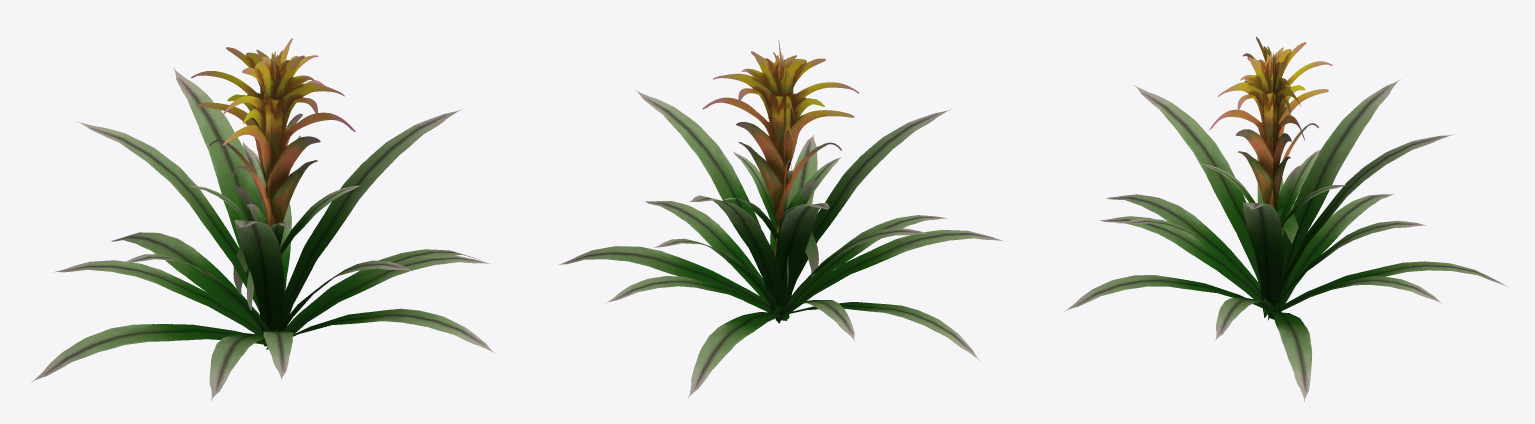
Rendered from BromelaidPlant.fbx.
The picture shows the model from 3 angles, left to right: view 1: azimuth 30°, elevation 25°; view 2: azimuth 150°, elevation 25°; view 3: azimuth 270°, elevation 25°; orthographic projection. The views are drawn at different scales.
Parts seen in each view (by area): view 1: BromelaidPlant1; view 2: BromelaidPlant1; view 3: BromelaidPlant1.
Boxes of the visible parts, x1,y1,x2,y2 form: BromelaidPlant1: (31,38,495,400); BromelaidPlant1: (559,40,1002,397); BromelaidPlant1: (1064,37,1507,401).
Bounding box in the file's own units: 0.4822 × 0.2901 × 0.4593.
1 material, 1 textured.
